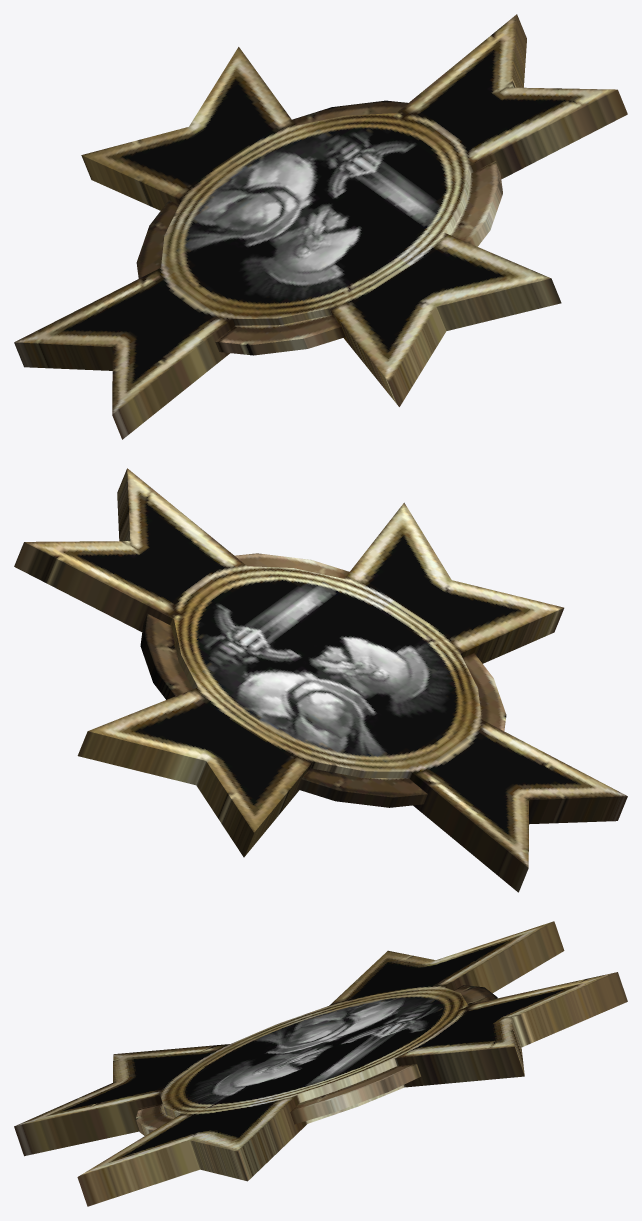
File: bbrd_tx_yongshixunzhang_1_01.obj
The picture shows the model from 3 angles, top to bottom: view 1: azimuth 30°, elevation 25°; view 2: azimuth 150°, elevation 25°; view 3: azimuth 330°, elevation 25°; orthographic projection.
Parts seen in each view (by area): view 1: Line01, Circle01; view 2: Line01, Circle01; view 3: Line01, Circle01.
Part boxes in pixels (x1=…): Line01: x1=14, y1=14, x2=627, y2=439; Circle01: x1=136, y1=100, x2=502, y2=355; Line01: x1=14, y1=468, x2=627, y2=892; Circle01: x1=140, y1=553, x2=506, y2=807; Line01: x1=14, y1=921, x2=627, y2=1206; Circle01: x1=135, y1=985, x2=497, y2=1135.
Bounding box in the file's own units: 26.55 × 11.43 × 28.12.
Materials: 1 (1 with a texture image).
